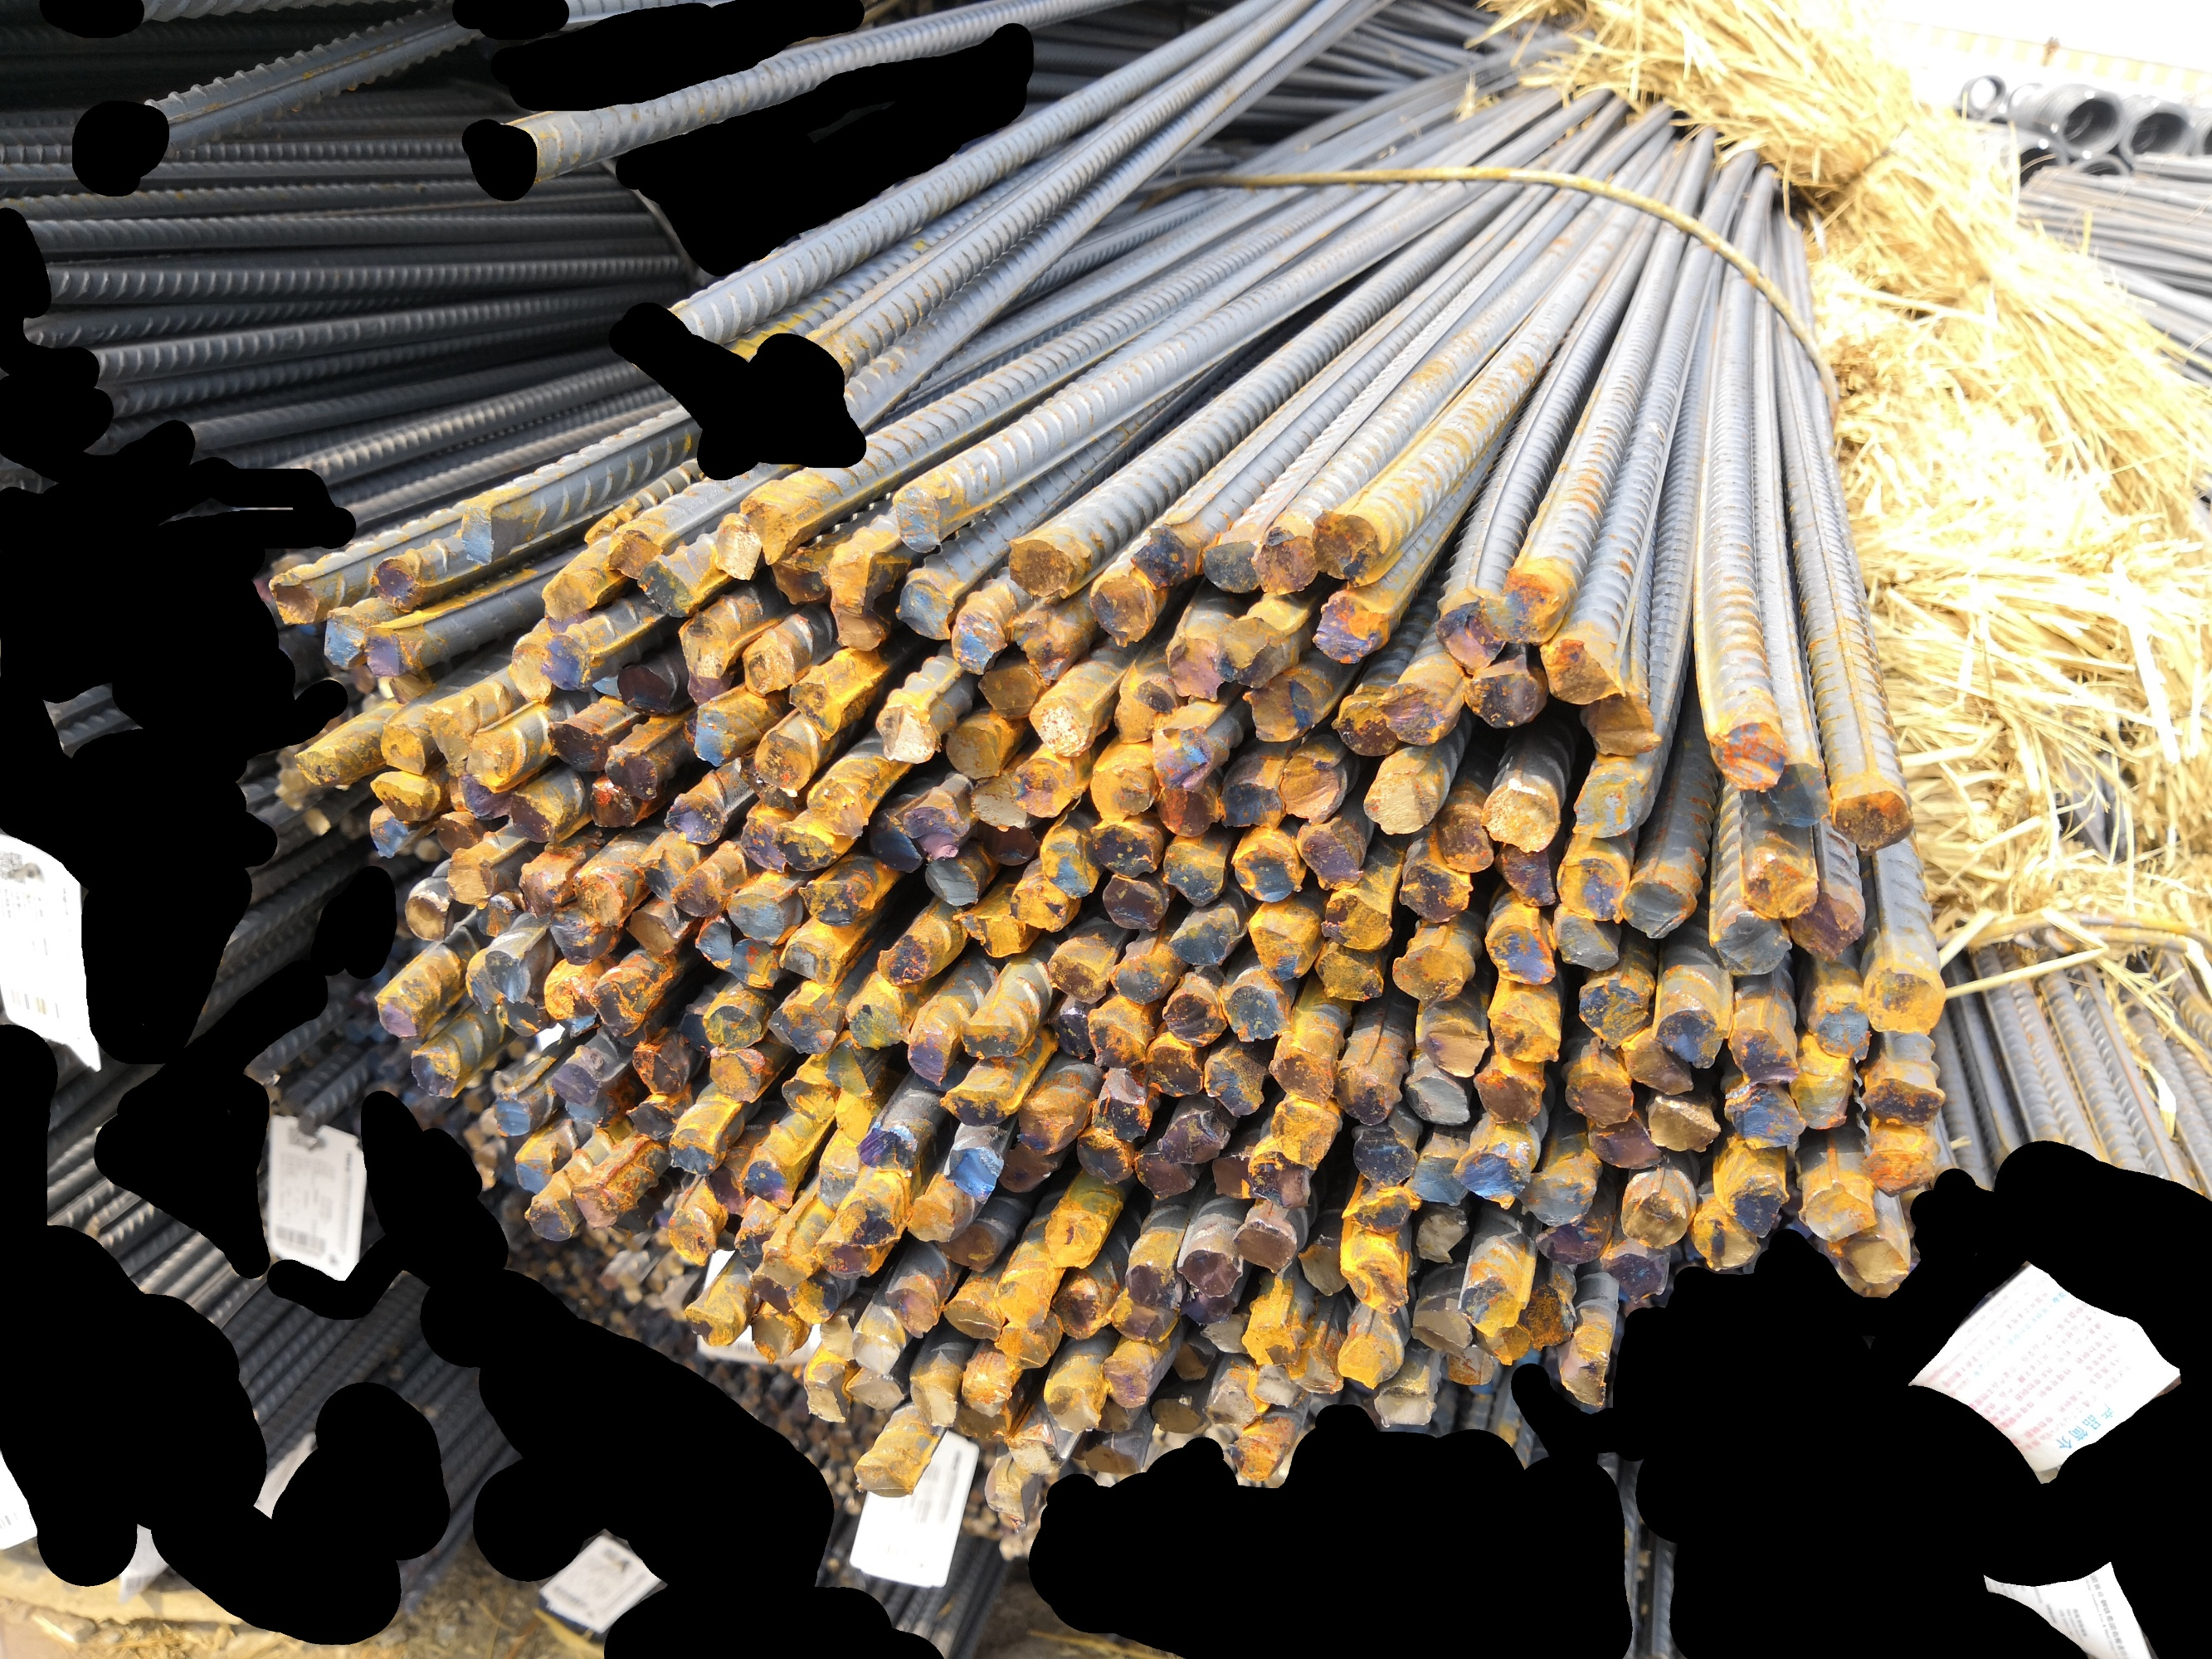rebar: (1534, 631, 1628, 708), (1478, 572, 1571, 647), (1578, 681, 1665, 758), (1706, 716, 1790, 795), (1475, 782, 1562, 854), (1862, 965, 1949, 1037), (1307, 509, 1384, 589), (1720, 1080, 1806, 1152), (1311, 589, 1389, 666), (1829, 786, 1919, 852), (1708, 910, 1794, 978), (1435, 596, 1508, 674), (1361, 763, 1440, 836), (1788, 889, 1867, 962), (1576, 974, 1651, 1049), (1450, 1143, 1532, 1211), (1215, 615, 1288, 690), (1394, 857, 1475, 925), (1511, 1168, 1600, 1229), (1269, 1101, 1344, 1173), (1553, 850, 1625, 925), (1755, 760, 1830, 831), (1618, 871, 1694, 941), (1006, 610, 1077, 683), (1719, 1169, 1792, 1241), (1004, 535, 1079, 605), (1328, 690, 1403, 760), (1414, 1012, 1490, 1080), (1241, 674, 1318, 742), (1483, 918, 1560, 986), (1088, 570, 1154, 648), (1391, 941, 1469, 1007), (1651, 1006, 1729, 1072), (1797, 1180, 1877, 1244), (1740, 856, 1820, 920), (1614, 1035, 1696, 1098), (1110, 673, 1180, 744), (1276, 753, 1344, 826), (737, 495, 804, 570), (1726, 1021, 1801, 1087), (1858, 1073, 1947, 1129), (1248, 526, 1316, 598), (1787, 1061, 1855, 1133), (1462, 669, 1544, 728), (1008, 755, 1081, 821), (1201, 1047, 1267, 1121), (1829, 1230, 1912, 1288), (1485, 1004, 1564, 1065), (1858, 1140, 1938, 1199), (1130, 523, 1198, 592), (1159, 840, 1227, 910), (1025, 694, 1096, 760), (1332, 1061, 1403, 1127), (1293, 826, 1365, 892), (1375, 681, 1447, 748), (1455, 1274, 1529, 1338), (1229, 842, 1304, 904), (1494, 835, 1557, 910), (1546, 910, 1621, 972), (1149, 723, 1215, 793), (1349, 1126, 1419, 1192), (1586, 1115, 1666, 1173), (1644, 1096, 1724, 1154), (751, 723, 812, 798), (1320, 890, 1394, 951), (675, 608, 737, 680), (1337, 1251, 1408, 1314), (1164, 631, 1225, 704), (1218, 983, 1292, 1044), (1618, 1188, 1691, 1249), (1042, 1204, 1109, 1270), (1246, 1147, 1313, 1213), (586, 974, 654, 1039), (802, 775, 870, 840), (1571, 777, 1639, 842), (948, 606, 1009, 678), (1471, 1065, 1543, 1126), (1564, 1066, 1635, 1127), (1691, 1211, 1762, 1272), (973, 666, 1049, 721), (1086, 762, 1154, 824), (1267, 1040, 1335, 1103), (1435, 805, 1496, 875), (741, 629, 800, 701), (1157, 992, 1229, 1051), (1245, 918, 1309, 983), (734, 746, 797, 812), (892, 577, 955, 643), (1809, 995, 1872, 1061), (873, 702, 941, 763), (1100, 871, 1168, 932), (938, 1145, 1006, 1206), (1515, 1284, 1576, 1352), (1401, 1072, 1473, 1129), (1088, 824, 1157, 882), (1157, 1107, 1227, 1164), (1340, 1188, 1422, 1237), (1597, 1248, 1668, 1304), (821, 544, 875, 617), (633, 558, 695, 620), (861, 812, 924, 875), (967, 772, 1030, 835), (786, 674, 847, 739), (1084, 1007, 1145, 1072), (950, 908, 1025, 960), (1534, 1215, 1609, 1267), (1154, 781, 1222, 838), (1229, 1216, 1297, 1274), (1408, 1302, 1478, 1358), (929, 1220, 1001, 1274), (1313, 950, 1384, 1004), (709, 511, 762, 584), (1014, 1096, 1077, 1157), (1407, 1150, 1471, 1209), (662, 789, 729, 847), (1107, 1290, 1175, 1345), (1215, 779, 1285, 833), (1166, 913, 1236, 967), (892, 483, 945, 554), (1035, 838, 1096, 899), (546, 906, 608, 965), (899, 803, 962, 863), (722, 889, 786, 946), (1333, 1331, 1398, 1389), (542, 718, 608, 774), (1004, 880, 1072, 934), (1143, 1039, 1204, 1098), (1173, 1248, 1245, 1298), (568, 868, 626, 931), (1199, 538, 1262, 596), (1109, 951, 1175, 1006), (1131, 1148, 1198, 1202), (1469, 1317, 1536, 1371), (770, 821, 838, 873), (795, 878, 865, 929), (777, 999, 838, 1056), (824, 596, 885, 653), (765, 551, 828, 606), (1041, 1378, 1103, 1434), (601, 526, 666, 580), (974, 816, 1042, 866), (840, 999, 908, 1049), (936, 1086, 1014, 1129), (615, 660, 675, 718), (540, 967, 600, 1025), (943, 723, 1002, 781), (779, 1269, 840, 1324), (1208, 1148, 1269, 1204), (1044, 953, 1109, 1006), (995, 1141, 1060, 1194), (943, 1398, 1016, 1443), (1075, 1127, 1133, 1185), (1051, 1284, 1109, 1342), (507, 788, 563, 847), (600, 744, 659, 800), (875, 932, 934, 988), (880, 1286, 940, 1342), (992, 1276, 1051, 1331), (535, 631, 589, 692), (1558, 1349, 1612, 1410), (664, 1206, 716, 1269), (737, 810, 790, 873), (852, 1126, 922, 1173), (1285, 1344, 1347, 1396), (420, 702, 471, 767), (507, 640, 556, 706), (699, 1002, 765, 1051), (704, 1049, 762, 1105), (1096, 1352, 1152, 1410), (267, 570, 321, 629), (666, 864, 725, 918), (812, 1236, 880, 1283), (666, 1124, 727, 1176), (692, 695, 736, 769), (983, 1471, 1035, 1532), (1123, 1258, 1184, 1310), (1414, 1206, 1466, 1267), (824, 1039, 875, 1101), (777, 938, 840, 988), (446, 845, 495, 910), (1089, 1093, 1154, 1141), (905, 1021, 952, 1087), (1238, 1321, 1304, 1368), (737, 1157, 795, 1211), (1295, 1241, 1349, 1298), (906, 1371, 959, 1431), (1225, 1431, 1285, 1483), (539, 572, 600, 622), (457, 770, 518, 821), (992, 1324, 1055, 1373), (586, 777, 641, 831), (404, 1047, 460, 1101), (727, 936, 781, 992), (366, 556, 418, 613), (514, 864, 567, 922), (481, 946, 533, 1004), (319, 608, 364, 674), (462, 728, 507, 795), (1203, 1382, 1264, 1431), (847, 1457, 915, 1500), (940, 1297, 1002, 1344), (1177, 1281, 1241, 1326), (1374, 1382, 1438, 1427), (633, 852, 689, 904), (831, 1087, 884, 1143), (622, 908, 680, 958), (922, 856, 980, 906), (366, 775, 425, 824), (779, 1077, 838, 1126), (1250, 1361, 1309, 1410), (957, 1018, 1023, 1061), (629, 1044, 683, 1096), (959, 1368, 1014, 1419), (1199, 1307, 1255, 1358), (378, 720, 427, 777), (366, 803, 415, 861), (682, 1300, 739, 1349), (814, 1157, 861, 1216), (798, 1371, 849, 1425), (903, 1195, 957, 1246), (847, 1328, 903, 1377), (748, 1307, 795, 1364), (702, 1159, 748, 1218), (370, 992, 422, 1042), (568, 1180, 621, 1230), (401, 890, 450, 945), (521, 1194, 575, 1243), (757, 1243, 812, 1290), (1079, 1438, 1142, 1480), (678, 660, 736, 706), (458, 504, 499, 568), (746, 1269, 797, 1319), (1004, 1436, 1067, 1476), (622, 1100, 680, 1143), (694, 917, 736, 976), (561, 1087, 621, 1129), (844, 1375, 908, 1413), (1046, 1011, 1095, 1061), (431, 810, 483, 857), (492, 992, 544, 1039), (462, 960, 507, 1014), (363, 624, 406, 680), (1440, 1344, 1496, 1387), (293, 742, 342, 791), (549, 1060, 600, 1107), (1086, 1392, 1138, 1438), (673, 1006, 720, 1054), (490, 1089, 533, 1140), (539, 601, 594, 640), (471, 894, 519, 938), (1168, 1338, 1217, 1382), (1149, 1396, 1203, 1434), (511, 1150, 556, 1195), (387, 666, 436, 708), (819, 1312, 859, 1363), (732, 1222, 779, 1262), (441, 758, 471, 814), (579, 514, 619, 554), (587, 667, 624, 702)
